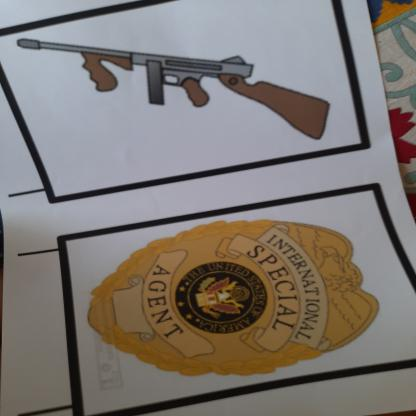Bootlegger: (9, 26, 348, 153)
G-man: (78, 214, 392, 383)
